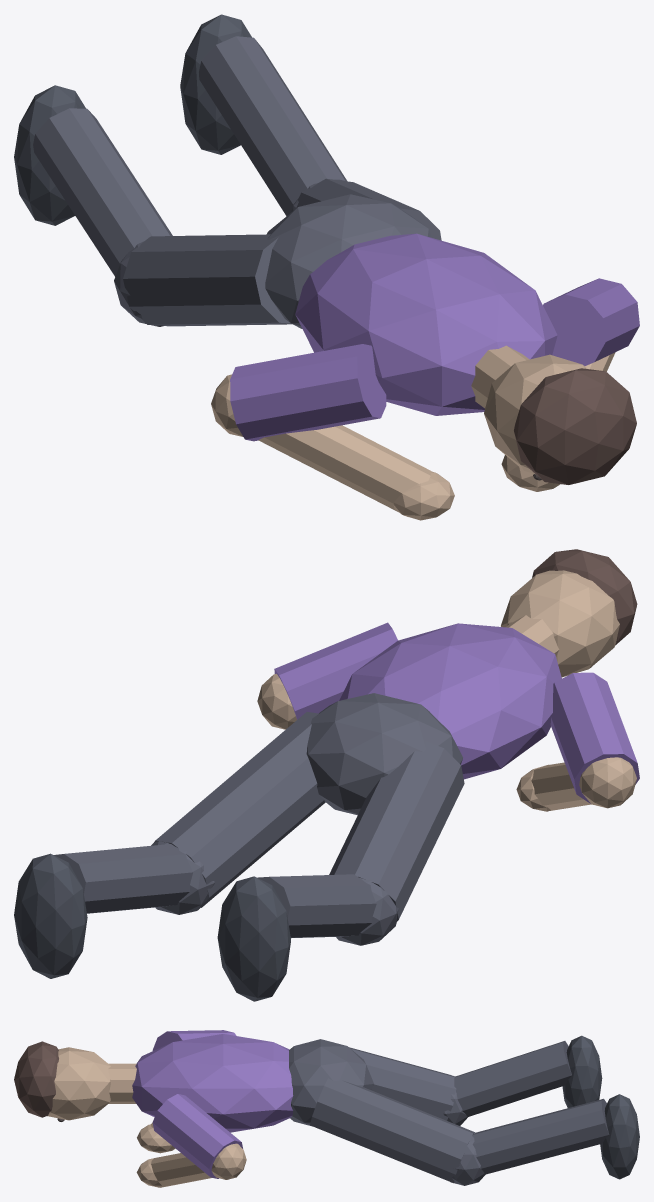
3 renders of one model, top to bottom at view 1: azimuth 30°, elevation 25°; view 2: azimuth 150°, elevation 25°; view 3: azimuth 270°, elevation 25°, orthographic. The views are drawn at different scales.
Visible parts, largest first — view 1: world; view 2: world; view 3: world.
Boxes of the visible parts, <box> form: world: <box>14,14,639,520</box>; world: <box>14,549,639,1001</box>; world: <box>14,1030,639,1187</box>.
Bounding box in the file's own units: 0.93 × 0.435 × 1.99.
